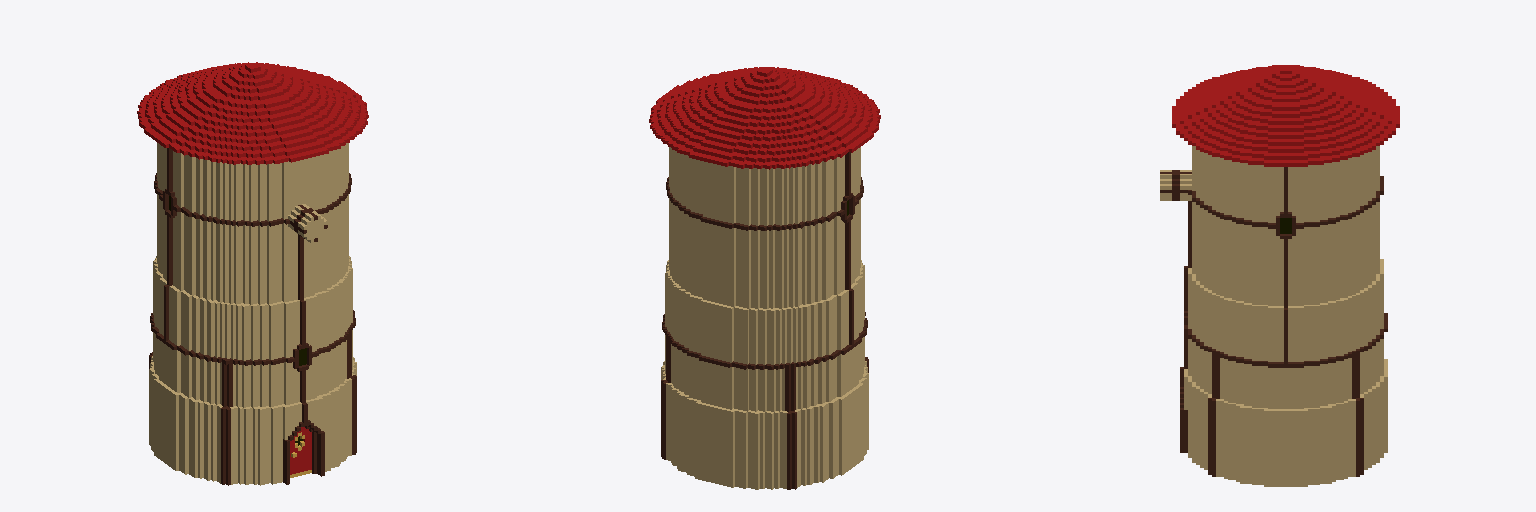
3 views of the same model, side by side, from view 1: azimuth 30°, elevation 25°; view 2: azimuth 150°, elevation 25°; view 3: azimuth 270°, elevation 25° (orthographic).
Parts seen in each view (by area): view 1: object 1; view 2: object 1; view 3: object 1.
Boxes of the visible parts, x1,y1,x2,y2 form: object 1: [137, 62, 368, 485]; object 1: [649, 67, 880, 489]; object 1: [1160, 65, 1399, 486].
Size of the model in its own units: 5.7 by 10.4 by 6.
Materials: 1 (1 with a texture image).